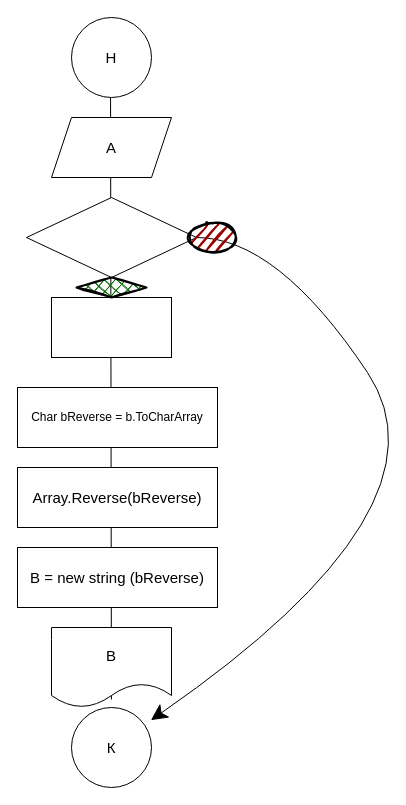
Image size: 406x805. Some labels were removed from this diagram. The shapes that lost their labels are listed below. From the top down, each one's centre as x and y in pixels, then its label:
At point 111,237: "A < 1000 and A>99".
At point 111,327: "B = A.ToString".
